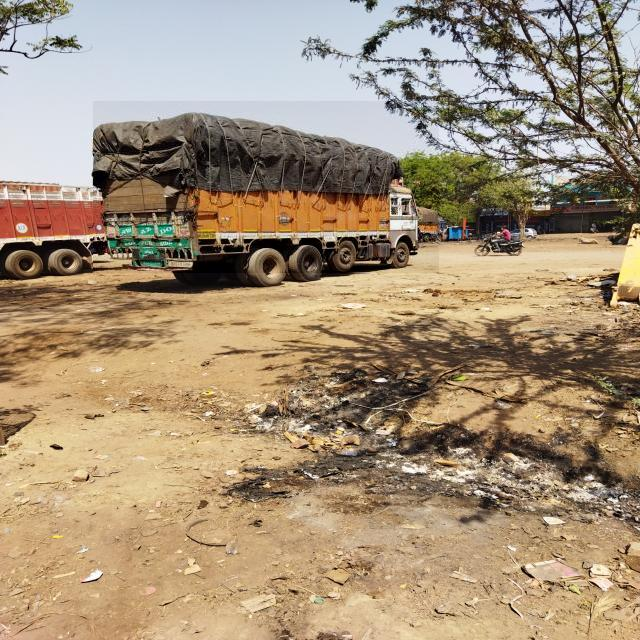Truck: (93, 102, 440, 274)
